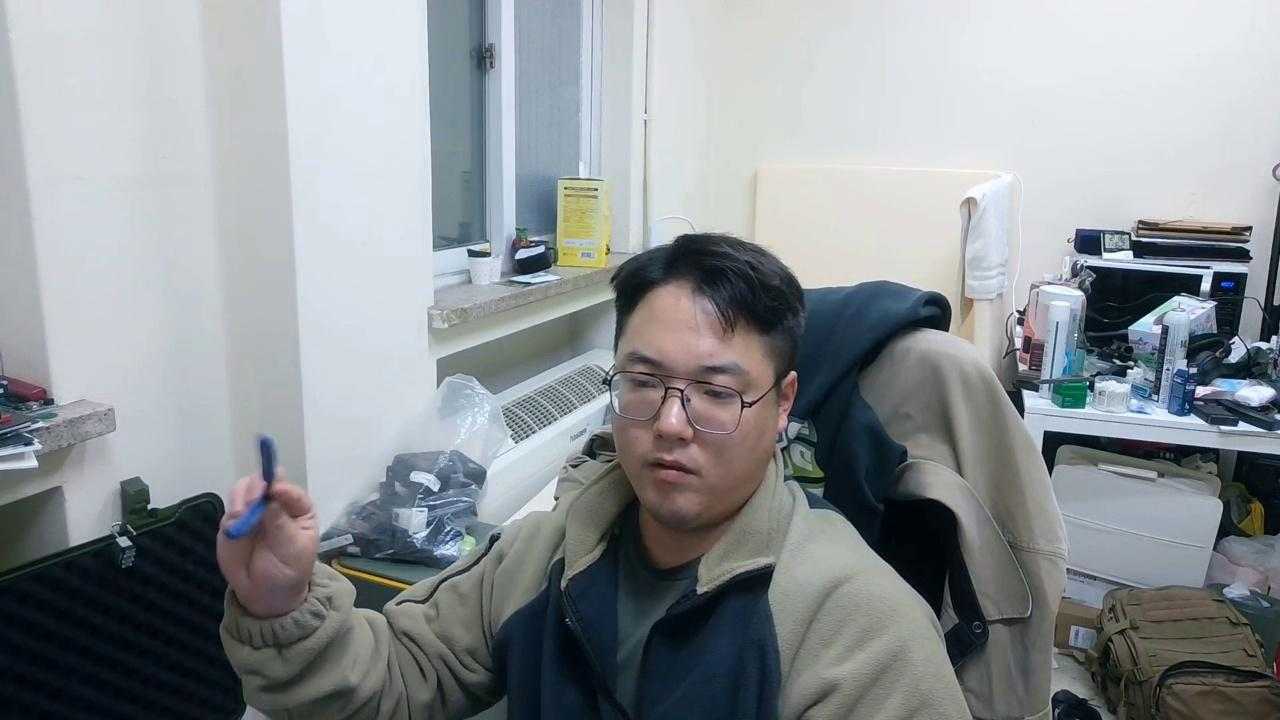blue_pliers: (225, 432, 281, 541)
